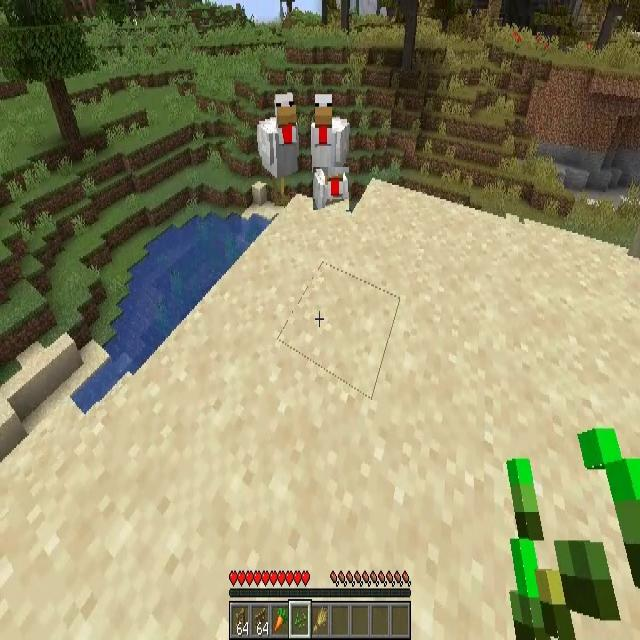duck: (257, 93, 298, 178), (311, 92, 349, 172), (313, 167, 349, 210)
